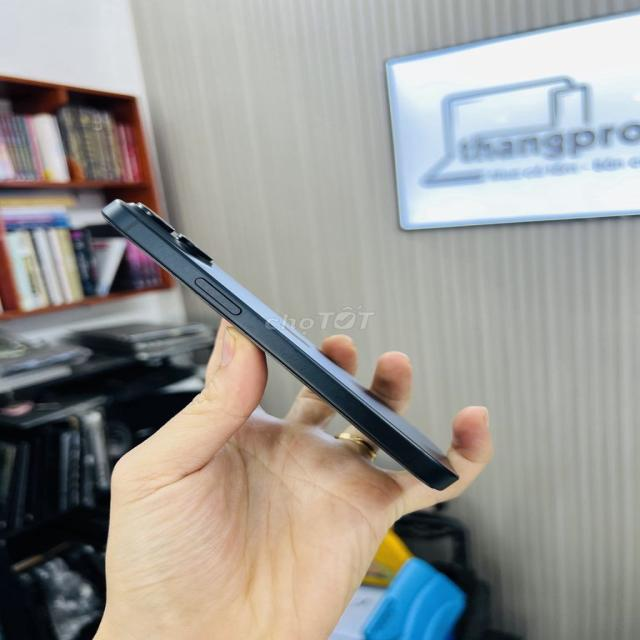gen_15: (93, 189, 468, 521)
